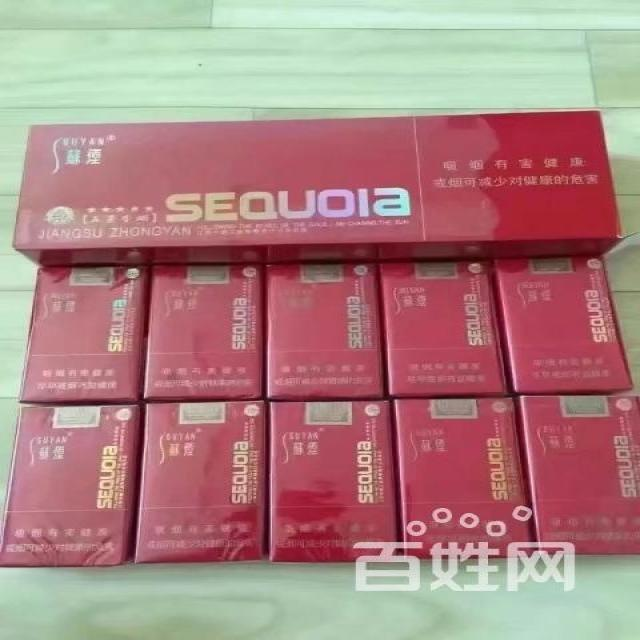box: (13, 110, 624, 269), (0, 404, 144, 566), (393, 398, 533, 562), (268, 400, 401, 563), (135, 400, 265, 565), (497, 254, 636, 394), (519, 395, 640, 555), (379, 260, 511, 396), (19, 265, 148, 404), (265, 263, 389, 400), (144, 264, 263, 398)
